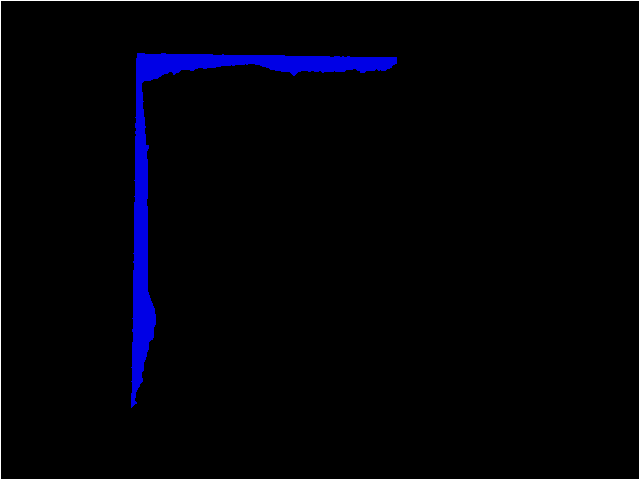defect: (130, 50, 398, 410)
